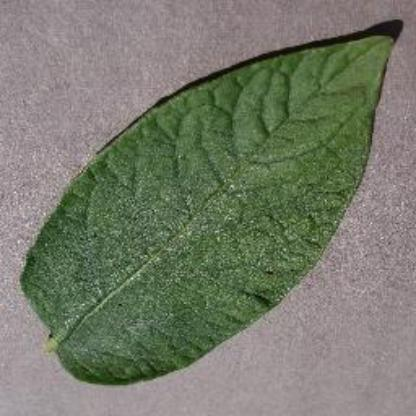Healthy-plant: (18, 26, 396, 386)
